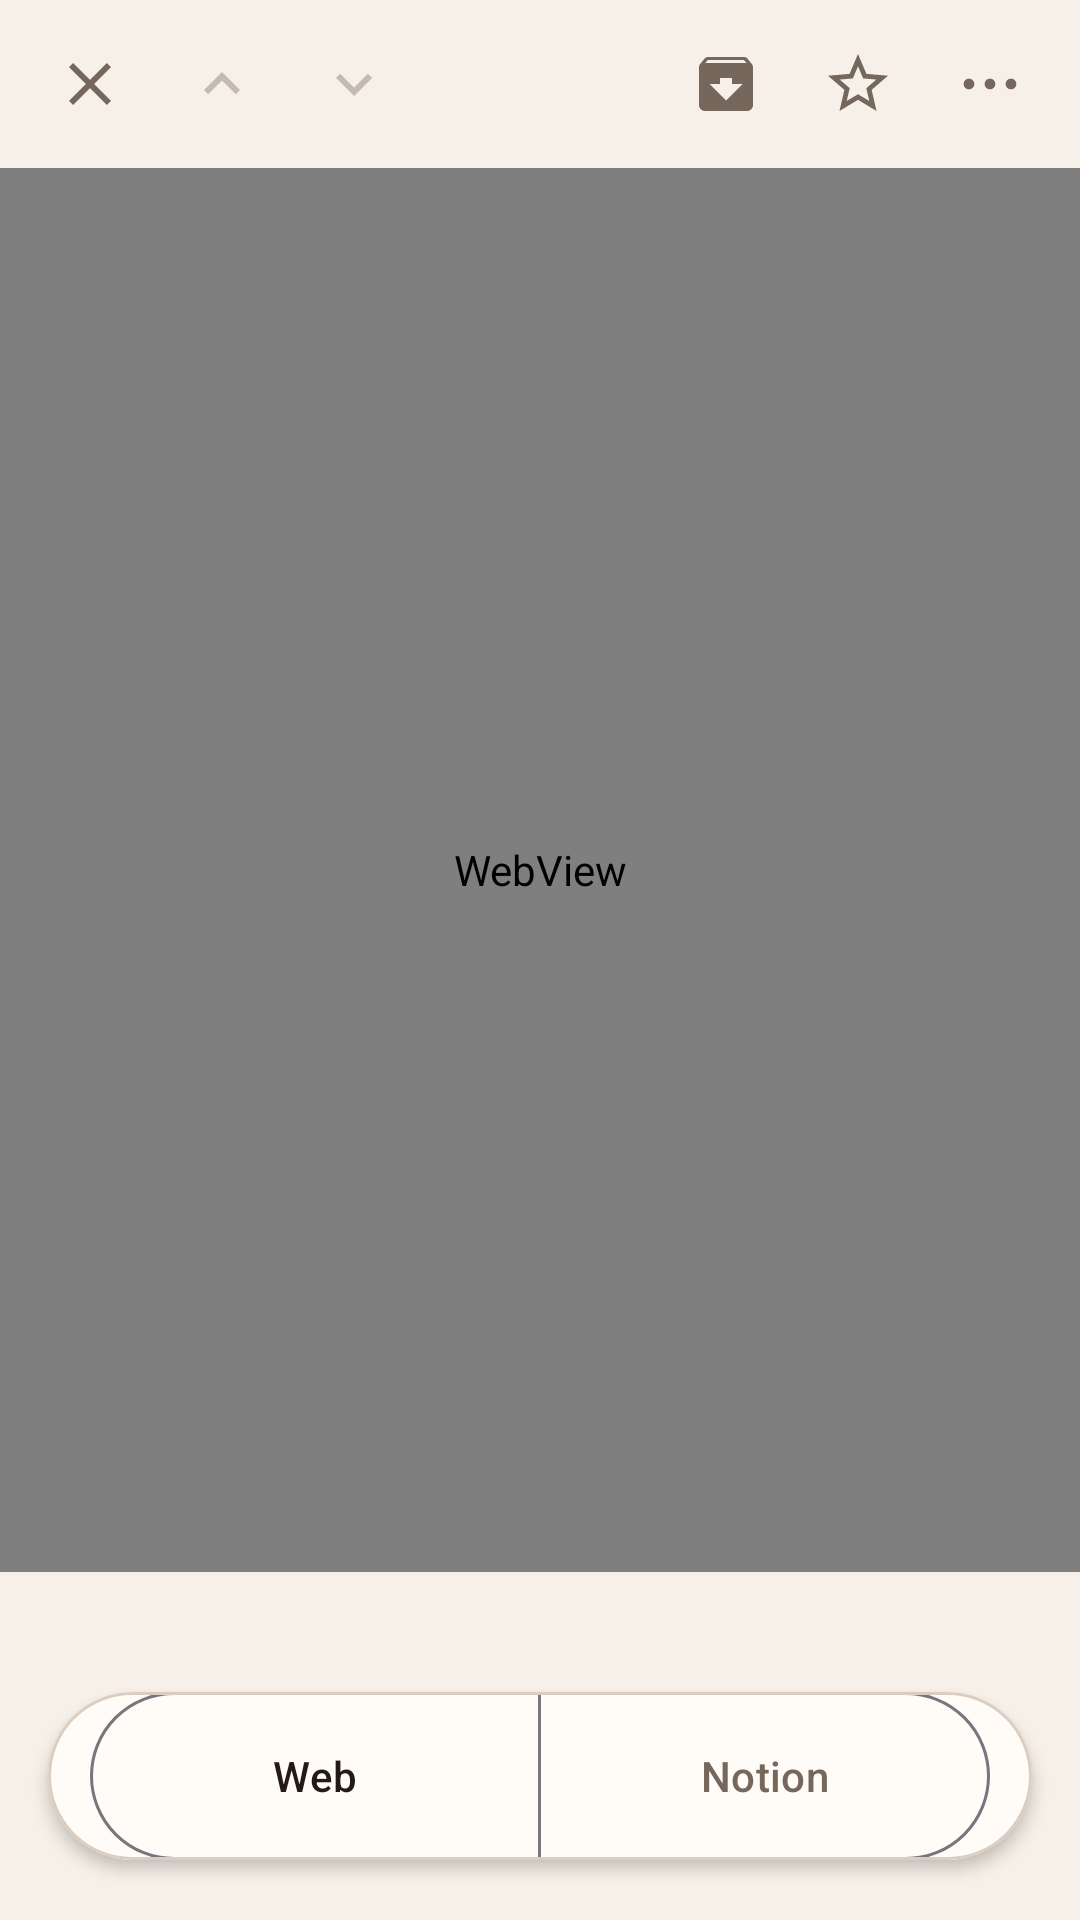

Where to tap for icons on this 1080*1920 app screen, as [x,y]:
Archive: [726,84]
Back: [222,83]
Close: [90,84]
Forward: [354,85]
More: [990,84]
Star: [858,82]
